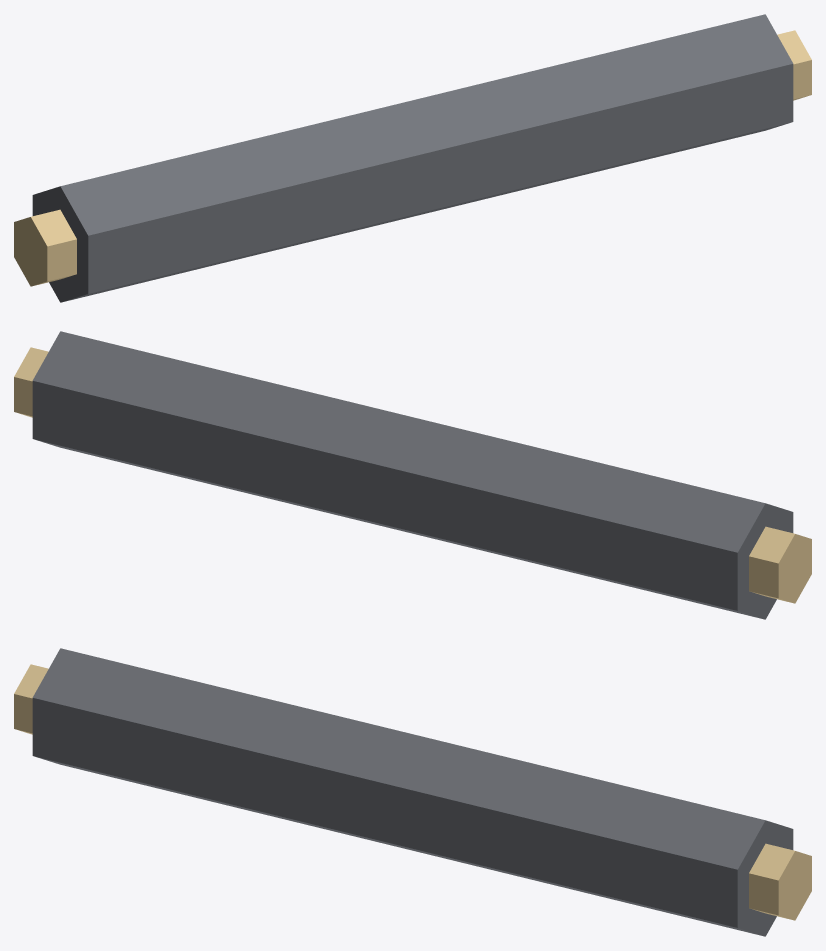
Rendered from bastion.shell_hinge.glb.
3 views of the same model, one above another, from view 1: azimuth 30°, elevation 25°; view 2: azimuth 150°, elevation 25°; view 3: azimuth 330°, elevation 25° (orthographic).
Size of the model in its own units: 4.12 by 0.6 by 0.5196.
